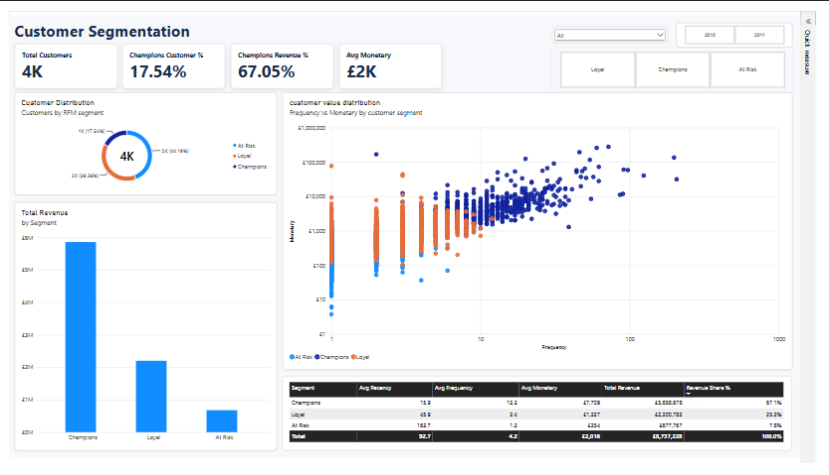

This screenshot's page, from the dashboard's own definition file:
{"tool":"powerbi","page":{"name":"Customer Segmentation","canvas":[1920,1080],"ordinal":1},"visuals":[{"type":"textbox","box":[13.3,11.7,441.7,56.7],"z":0},{"type":"slicer","fields":{"Values":["rfm.Segment"]},"box":[1316.7,78.3,583.3,110],"z":1000},{"type":"cardVisual","fields":{"Data":["transactions.Total Customers"]},"box":[12.9,68.6,250,110],"z":2000},{"type":"cardVisual","fields":{"Data":["transactions.Champions Customer %"]},"box":[274.3,68.6,250,110],"z":3000},{"type":"cardVisual","fields":{"Data":["transactions.Champions Revenue %"]},"box":[537.1,68.6,250,110],"z":4000},{"type":"cardVisual","fields":{"Data":["transactions.Avg Monetary"]},"box":[800,68.6,250,110],"z":5000},{"type":"donutChart","title":"Customer Distribution","fields":{"Category":["rfm.Segment"],"Y":["transactions.Total Customers"]},"box":[13.3,188.3,636.7,250],"z":6000},{"type":"clusteredColumnChart","fields":{"Category":["rfm.Segment"],"Y":["transactions.Total Revenue"]},"box":[13.3,455,636.7,605],"z":7000},{"type":"tableEx","fields":{"Values":["rfm.Segment","transactions.Avg Recency","transactions.Avg Frequency","transactions.Avg Monetary","transactions.Total Revenue","transactions.Revenue Share %"]},"box":[661.7,878.3,1236.7,181.7],"z":8000},{"type":"scatterChart","title":"customer value distribution","fields":{"Category":["rfm.CustomerID"],"Series":["rfm.Segment"],"X":["rfm.Frequency"],"Y":["rfm.Monetary"]},"box":[663.3,188.3,1236.7,675],"z":9000},{"type":"slicer","fields":{"Values":["Calendar.Year"]},"box":[1618.3,18.3,281.7,60],"z":10000},{"type":"slicer","fields":{"Values":["transactions.Country"]},"box":[1316.7,28.3,281.7,40],"z":11000}]}

Visuals, with their boxes on the page's 1920x1080 design canvas (x1, y1, x2, y2). These are canvas units, not pixel positions in the 829x475 screenshot, which may show the page scaled, cropped or inside an application window:
textbox: region(13, 12, 455, 68)
slicer - rfm.Segment: region(1317, 78, 1900, 188)
cardVisual - transactions.Total Customers: region(13, 69, 263, 179)
cardVisual - transactions.Champions Customer %: region(274, 69, 524, 179)
cardVisual - transactions.Champions Revenue %: region(537, 69, 787, 179)
cardVisual - transactions.Avg Monetary: region(800, 69, 1050, 179)
"Customer Distribution" donutChart: region(13, 188, 650, 438)
clusteredColumnChart - rfm.Segment x transactions.Total Revenue: region(13, 455, 650, 1060)
tableEx - rfm.Segment x transactions.Avg Recency: region(662, 878, 1898, 1060)
"customer value distribution" scatterChart: region(663, 188, 1900, 863)
slicer - Calendar.Year: region(1618, 18, 1900, 78)
slicer - transactions.Country: region(1317, 28, 1598, 68)
